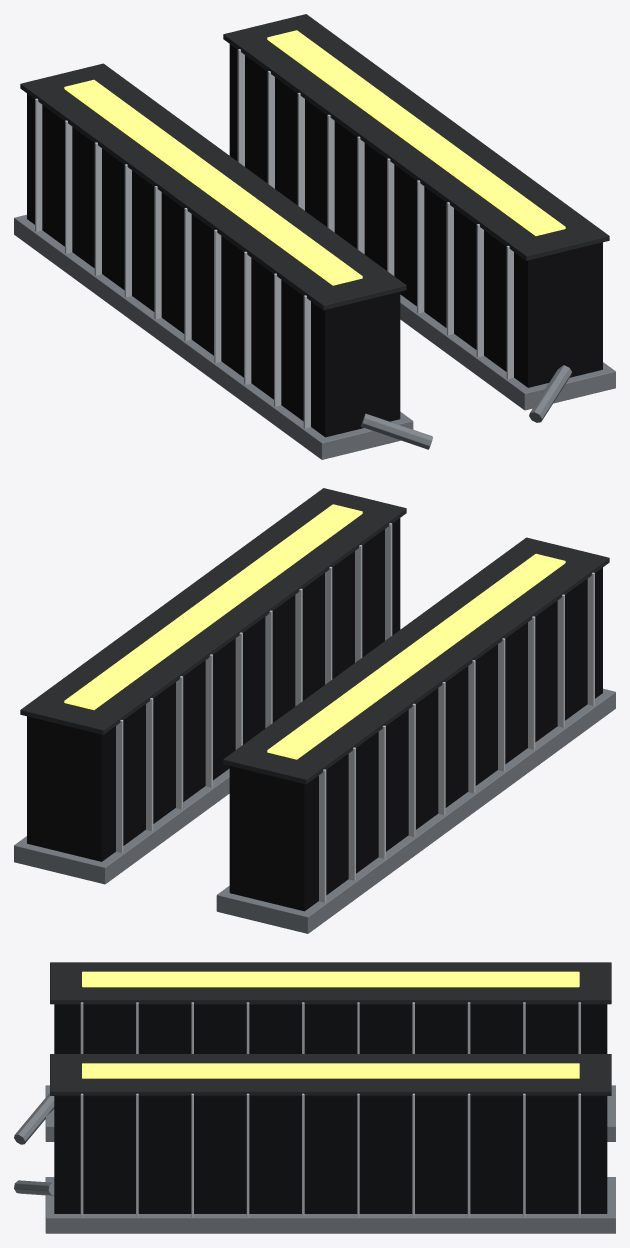
File: nomad_cooling_grid.fbx
3 views of the same model, one above another, from view 1: azimuth 30°, elevation 25°; view 2: azimuth 150°, elevation 25°; view 3: azimuth 270°, elevation 25° (orthographic). The views are drawn at different scales.
Visible parts, largest first — view 1: Cooling_Grid; view 2: Cooling_Grid; view 3: Cooling_Grid.
Part boxes in pixels (bbox=[...]): Cooling_Grid: bbox=[14, 14, 615, 459]; Cooling_Grid: bbox=[14, 488, 615, 933]; Cooling_Grid: bbox=[14, 962, 615, 1233].
Size of the model in its own units: 72 by 36.65 by 138.
